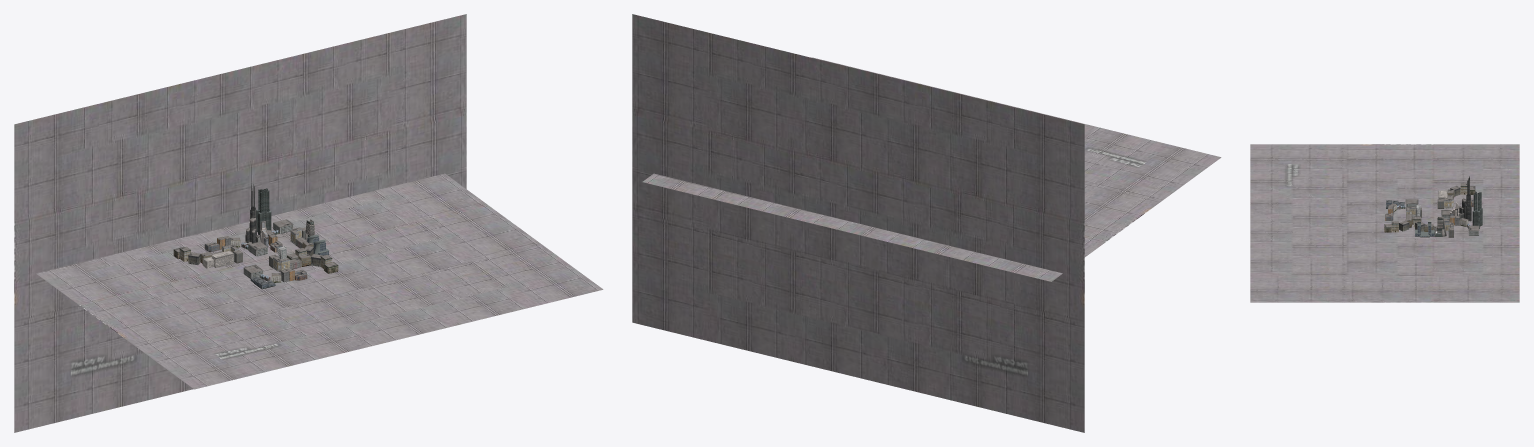
File: City.obj
3 renders of one model, left to right at view 1: azimuth 30°, elevation 25°; view 2: azimuth 150°, elevation 25°; view 3: azimuth 270°, elevation 25°, orthographic. The views are drawn at different scales.
Visible parts, largest first — view 1: pPlane2, pPlane1, The_City:mesh01, The_City:bldgs2; view 2: pPlane2, pPlane1; view 3: pPlane1, The_City:mesh01, The_City:bldgs2.
Boxes of the visible parts, x1,y1,x2,y2 form: pPlane2: (14, 14, 466, 432); pPlane1: (36, 173, 603, 389); The_City:mesh01: (173, 219, 338, 282); The_City:bldgs2: (202, 184, 329, 289); pPlane2: (632, 14, 1084, 432); pPlane1: (642, 57, 1221, 281); pPlane1: (1250, 144, 1519, 302); The_City:mesh01: (1384, 183, 1479, 237); The_City:bldgs2: (1386, 176, 1482, 237).
Size of the model in its own units: 10.33 by 6.73 by 6.73.
Materials: 3 (3 with a texture image).
